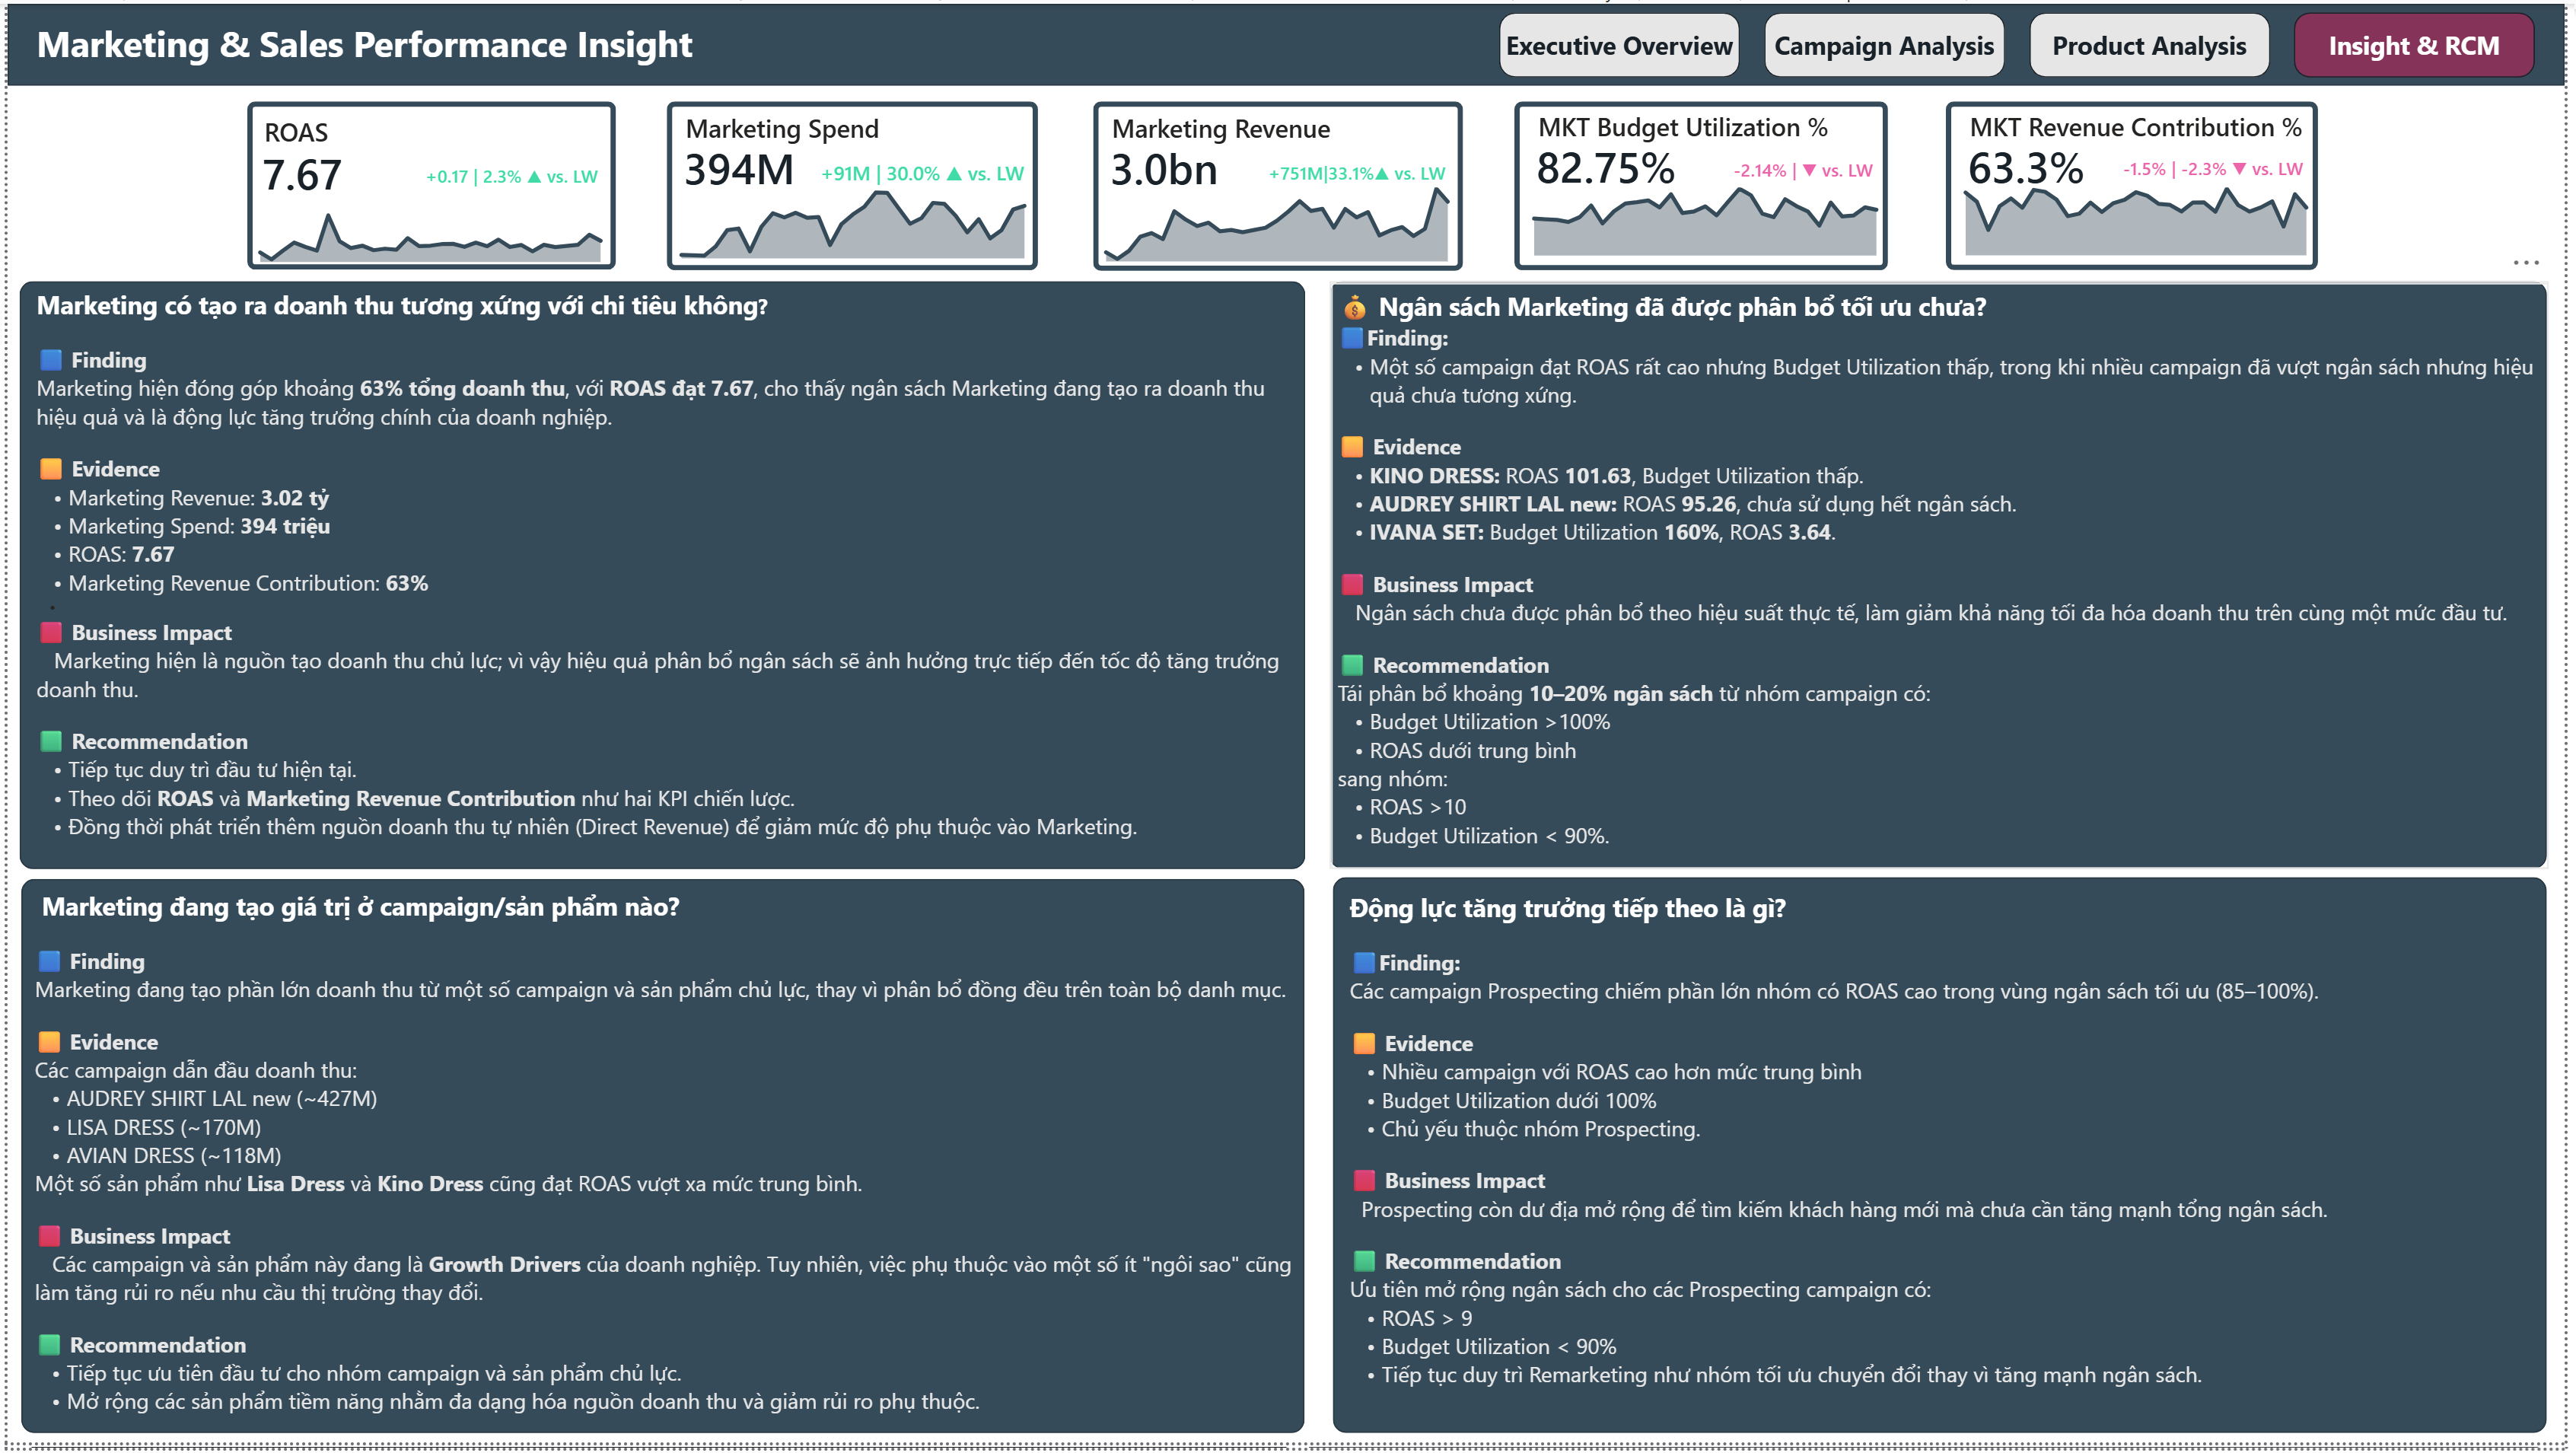

The page's visual inventory and layout, read from the dashboard file:
{"tool":"powerbi","page":{"name":"Insight & RCM","canvas":[1920,1080],"ordinal":3},"visuals":[{"type":"shape","box":[0,0,1920,61.4],"z":0},{"type":"cardVisual","fields":{"Data":["_Measure.% Budget Utilization"]},"box":[1134.7,97.1,281,50.5],"z":0,"group":"g5"},{"type":"cardVisual","fields":{"Data":["_Measure.Marketing Spend"]},"box":[493.1,98,281.6,50.5],"z":0,"group":"g3"},{"type":"cardVisual","fields":{"Data":["_Measure.MKT Revenue by Camp"]},"box":[813.5,98.3,280.6,50.8],"z":0,"group":"g2"},{"type":"cardVisual","fields":{"Data":["_Measure.ROAS"]},"box":[178,101.3,279.7,50.3],"z":0,"group":"g1"},{"type":"shape","box":[8.6,208.4,965.4,441.3],"z":0,"group":"g8"},{"type":"textbox","box":[17.2,6.6,622.2,54.3],"z":1000},{"type":"cardVisual","fields":{"Data":["_Measure.MKT Revenue Contribution %"]},"box":[1458.5,97.1,279.9,50.4],"z":1000,"group":"g6"},{"type":"lineChart","fields":{"Y":["_Measure.MKT Revenue by Orders"],"Category":["Dim_Date.Date"]},"box":[812.5,130.1,280.6,64.5],"z":1000,"group":"g2"},{"type":"lineChart","fields":{"Category":["Dim_Date.Date"],"Y":["_Measure.% Budget Utilization"]},"box":[1134.7,130.8,281,64.2],"z":1000,"group":"g5"},{"type":"lineChart","fields":{"Y":["_Measure.Marketing Spend"],"Category":["Dim_Date.Date"]},"box":[493.1,131.6,281.6,64.2],"z":1000,"group":"g3"},{"type":"lineChart","fields":{"Y":["_Measure.ROAS"],"Category":["Dim_Date.Date"]},"box":[178,135,279.7,63.9],"z":1000,"group":"g1"},{"type":"textbox","box":[15.8,208.3,956.4,432.3],"z":1000,"group":"g8"},{"type":"pageNavigator","box":[1120,6.3,781,49.1],"z":2000},{"type":"textbox","box":[1134.7,75,281,44.2],"z":2000,"group":"g5"},{"type":"textbox","box":[493.1,75.9,281.6,44.2],"z":2000,"group":"g3"},{"type":"textbox","box":[813.5,76.1,280.6,44.4],"z":2000,"group":"g2"},{"type":"textbox","box":[178,79.3,279.7,44],"z":2000,"group":"g1"},{"type":"lineChart","fields":{"Y":["_Measure.MKT Revenue Contribution %"],"Category":["Dim_Date.Date"]},"box":[1458.5,130.7,279.9,64.1],"z":2000,"group":"g6"},{"type":"shape","box":[180.1,73.6,276.7,126.3],"z":2500,"group":"g1"},{"type":"shape","box":[494.3,73.6,278.7,126.8],"z":2500,"group":"g3"},{"type":"shape","box":[814.6,73.6,277.7,127.2],"z":2500,"group":"g2"},{"type":"shape","box":[1131.9,73.6,280.5,126.8],"z":2500,"group":"g5"},{"type":"group","id":"g1","title":"Group 1","box":[178,73.6,279.7,126.3],"z":3000},{"type":"textbox","box":[1458.5,75,279.9,44.1],"z":3000,"group":"g6"},{"type":"cardVisual","fields":{"Data":["_Measure.Budget Utilization Label WoW"]},"box":[1192.4,105.1,216.6,36.5],"z":3000,"group":"g5"},{"type":"cardVisual","fields":{"Data":["_Measure.MTK Revenue Label WoW"]},"box":[876.6,106.6,215.9,38.2],"z":3000,"group":"g2"},{"type":"cardVisual","fields":{"Data":["_Measure.MTK Spend Label WoW"]},"box":[558.6,107.5,216.3,37.7],"z":3000,"group":"g3"},{"type":"cardVisual","fields":{"Data":["_Measure.MTK ROAS Label WoW"]},"box":[241.6,110.1,215.2,37.1],"z":3000,"group":"g1"},{"type":"group","id":"g2","title":"Group 1","box":[812.5,73.6,282.6,125.1],"z":4000},{"type":"shape","box":[1455.7,73.6,279.4,126.6],"z":4000,"group":"g6"},{"type":"group","id":"g3","title":"Group 1","box":[493.1,73.6,281.1,126.6],"z":5000},{"type":"cardVisual","fields":{"Data":["_Measure.MKT Revenue Contribution % Label WoW"]},"box":[1516,105.1,215.6,36.4],"z":5000,"group":"g6"},{"type":"group","id":"g4","title":"Group 4","box":[995.2,655.9,911.4,427.1],"z":5500},{"type":"group","id":"g5","title":"Group 1","box":[1131.9,73.6,285.5,126.6],"z":6000},{"type":"group","id":"g6","title":"Group 1","box":[1455.7,73.6,282.6,126.6],"z":7000},{"type":"group","id":"g7","title":"Group 2","box":[993.1,208.4,915.5,441.4],"z":8000},{"type":"group","id":"g8","title":"Group 2","box":[8.6,208.3,965.4,441.4],"z":9000},{"type":"group","id":"g9","title":"Group 3","box":[10,656.8,967.5,420.2],"z":10000},{"type":"shape","box":[995.2,655.9,911.4,417.2],"z":10500,"group":"g4"},{"type":"textbox","box":[1003.1,660.9,903.5,422.1],"z":11000,"group":"g4"},{"type":"shape","box":[10,656.8,963.6,416.1],"z":11500,"group":"g9"},{"type":"textbox","box":[15,659.5,962.5,417.5],"z":12000,"group":"g9"},{"type":"shape","box":[993.1,208.4,914,441.1],"z":12504,"group":"g7"},{"type":"textbox","box":[994.6,209.8,914,440],"z":13004,"group":"g7"}]}

Visuals, with their boxes in screenshot pixels (x1, y1, x2, y2), scaled from the page's 1920x1080 canvas onto the 2576x1453 screenshot:
shape: detection(0, 0, 2575, 83)
cardVisual - _Measure.% Budget Utilization: detection(1522, 131, 1899, 199)
cardVisual - _Measure.Marketing Spend: detection(661, 132, 1040, 199)
cardVisual - _Measure.MKT Revenue by Camp: detection(1091, 132, 1468, 201)
cardVisual - _Measure.ROAS: detection(239, 136, 614, 204)
shape: detection(11, 280, 1307, 874)
textbox: detection(23, 9, 858, 82)
cardVisual - _Measure.MKT Revenue Contribution %: detection(1957, 131, 2332, 199)
lineChart - _Measure.MKT Revenue by Orders x Dim_Date.Date: detection(1090, 175, 1466, 262)
lineChart - Dim_Date.Date x _Measure.% Budget Utilization: detection(1522, 176, 1899, 263)
lineChart - _Measure.Marketing Spend x Dim_Date.Date: detection(661, 177, 1040, 263)
lineChart - _Measure.ROAS x Dim_Date.Date: detection(239, 182, 614, 268)
textbox: detection(21, 280, 1304, 862)
pageNavigator: detection(1503, 8, 2551, 75)
textbox: detection(1522, 101, 1899, 161)
textbox: detection(661, 102, 1040, 161)
textbox: detection(1091, 103, 1468, 162)
textbox: detection(239, 107, 614, 166)
lineChart - _Measure.MKT Revenue Contribution % x Dim_Date.Date: detection(1957, 176, 2332, 262)
shape: detection(242, 99, 613, 269)
shape: detection(663, 99, 1037, 269)
shape: detection(1093, 99, 1466, 270)
shape: detection(1519, 99, 1895, 269)
"Group 1" group: detection(239, 99, 614, 269)
textbox: detection(1957, 101, 2332, 161)
cardVisual - _Measure.Budget Utilization Label WoW: detection(1600, 142, 1890, 190)
cardVisual - _Measure.MTK Revenue Label WoW: detection(1176, 143, 1466, 195)
cardVisual - _Measure.MTK Spend Label WoW: detection(750, 145, 1040, 196)
cardVisual - _Measure.MTK ROAS Label WoW: detection(324, 148, 613, 198)
"Group 1" group: detection(1090, 99, 1469, 267)
shape: detection(1953, 99, 2328, 269)
"Group 1" group: detection(661, 99, 1039, 269)
cardVisual - _Measure.MKT Revenue Contribution % Label WoW: detection(2034, 142, 2323, 190)
"Group 4" group: detection(1336, 882, 2558, 1452)
"Group 1" group: detection(1519, 99, 1902, 269)
"Group 1" group: detection(1953, 99, 2332, 269)
"Group 2" group: detection(1333, 280, 2561, 875)
"Group 2" group: detection(11, 280, 1307, 874)
"Group 3" group: detection(14, 884, 1311, 1449)
shape: detection(1336, 882, 2558, 1444)
textbox: detection(1345, 889, 2558, 1452)
shape: detection(14, 884, 1306, 1443)
textbox: detection(20, 887, 1311, 1449)
shape: detection(1333, 280, 2558, 874)
textbox: detection(1335, 282, 2561, 875)
